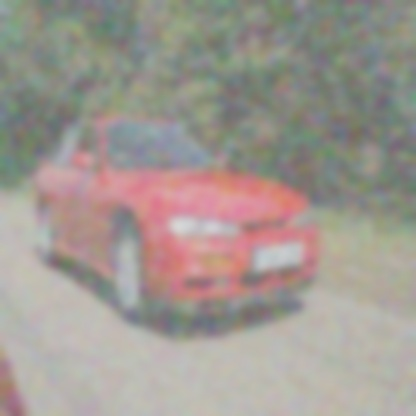Vehicle: (28, 114, 323, 331)
